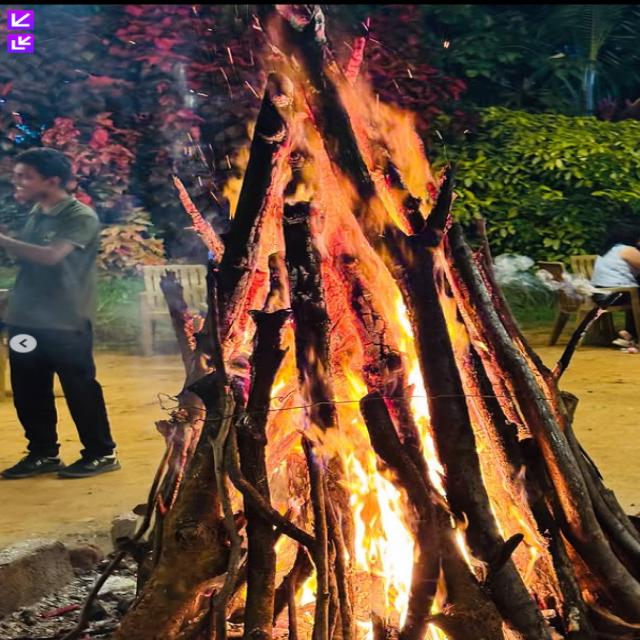fire: (224, 1, 439, 261), (229, 263, 445, 512), (448, 312, 564, 640), (276, 512, 443, 640)
